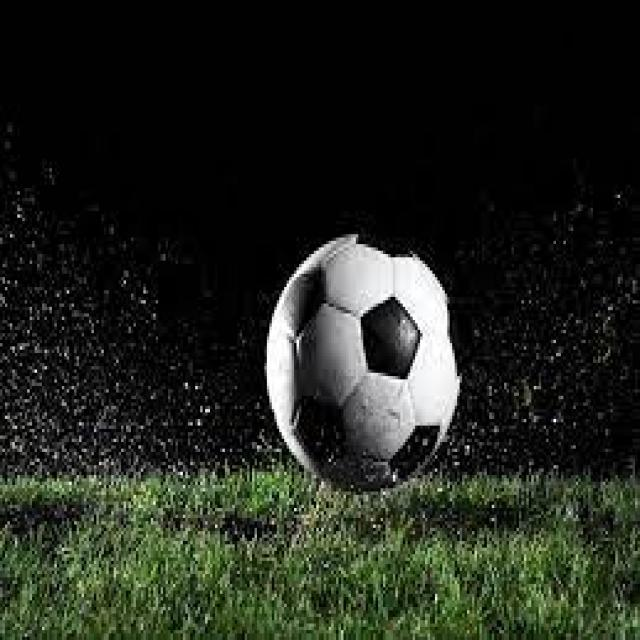ball: (265, 234, 465, 492)
